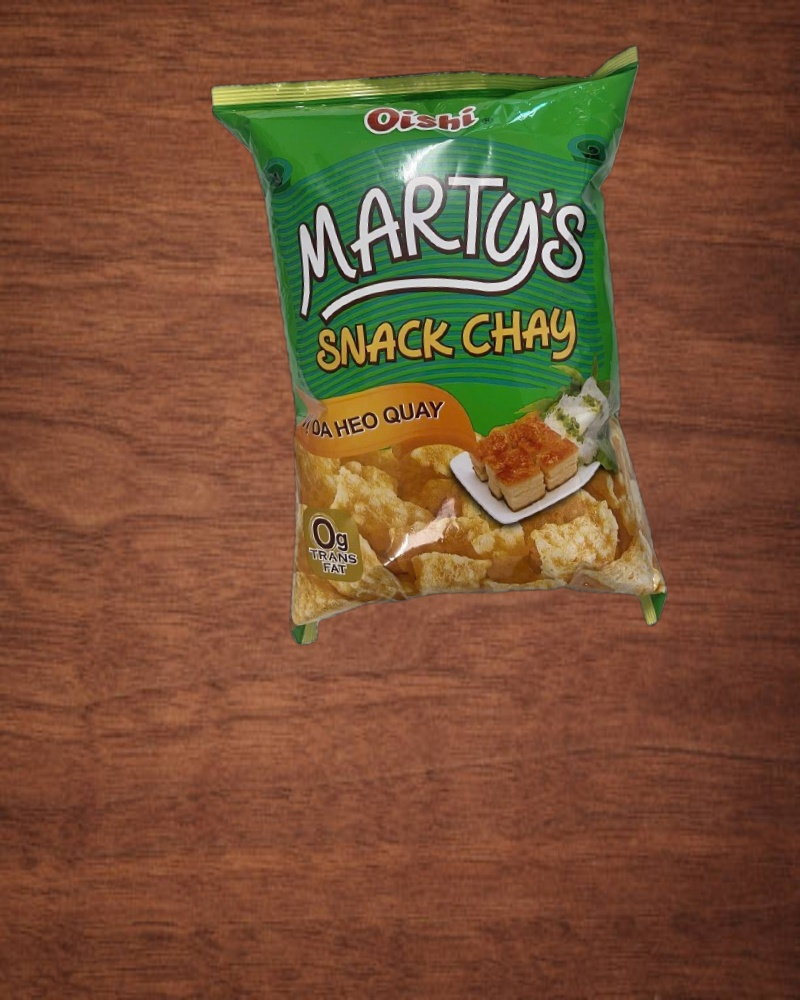Snack chay: (211, 45, 689, 661)
